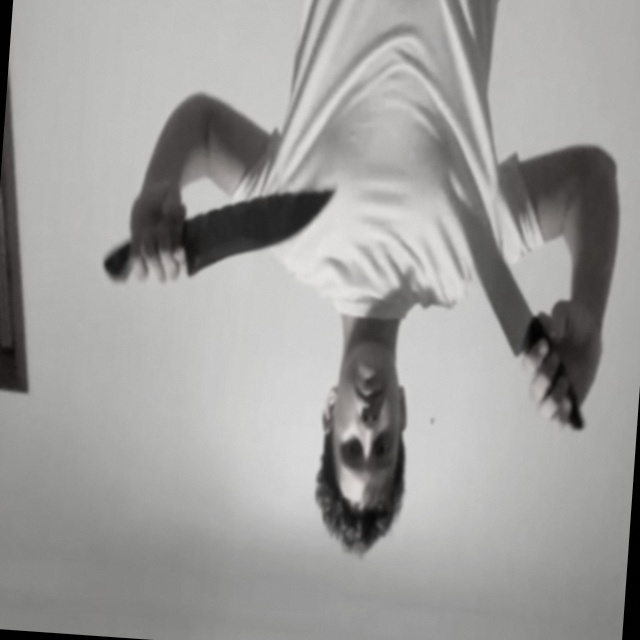Sharp-Object: (184, 181, 334, 288), (453, 214, 536, 362)
